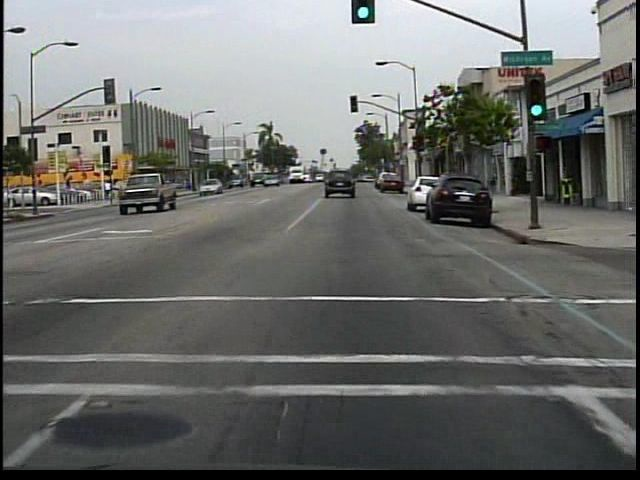person: (105, 179, 113, 204)
